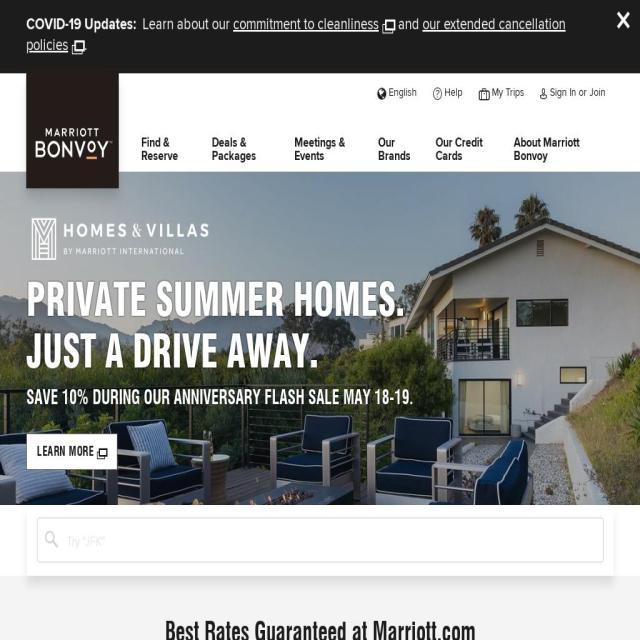button: (32, 73, 112, 161), (513, 130, 602, 169), (26, 433, 118, 470), (532, 73, 614, 111), (294, 130, 366, 169), (211, 130, 282, 169), (435, 130, 501, 169), (470, 73, 532, 111), (142, 130, 200, 169), (370, 73, 426, 111), (378, 130, 423, 169), (425, 73, 471, 111)
heading: (26, 616, 614, 640)
image: (0, 172, 640, 505), (26, 205, 214, 270)
link: (513, 135, 602, 163), (294, 135, 366, 163), (211, 135, 282, 163), (435, 135, 501, 163), (142, 135, 200, 163), (378, 135, 423, 163)
text: (0, 172, 640, 505), (36, 516, 604, 562), (26, 274, 486, 326), (26, 326, 486, 377), (32, 125, 112, 193), (174, 386, 413, 408), (26, 386, 170, 408), (422, 16, 566, 32), (26, 16, 142, 32), (143, 16, 233, 32), (233, 16, 318, 32), (317, 16, 378, 32), (37, 443, 94, 459), (550, 84, 606, 100), (26, 37, 68, 53), (492, 84, 524, 100), (388, 84, 418, 100), (395, 16, 423, 32), (444, 84, 464, 100), (84, 37, 88, 53)
